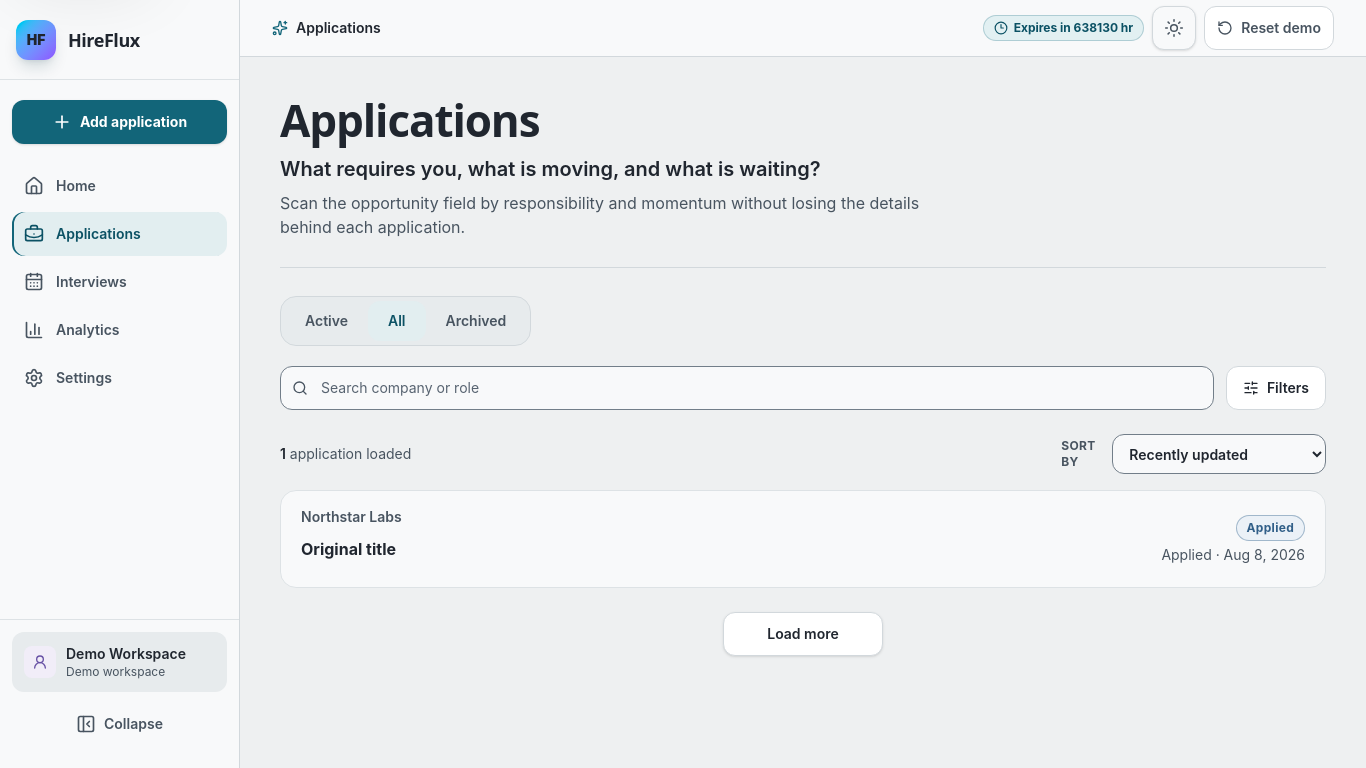
Scenario: ApplicationListPage › deduplicates an application repeated across cursor pages
The image size is (1366, 768).
Expected: the link "Original title" is shown, [301,539,396,559]
Click the button "Load more": (803, 634) [723,612,883,656]
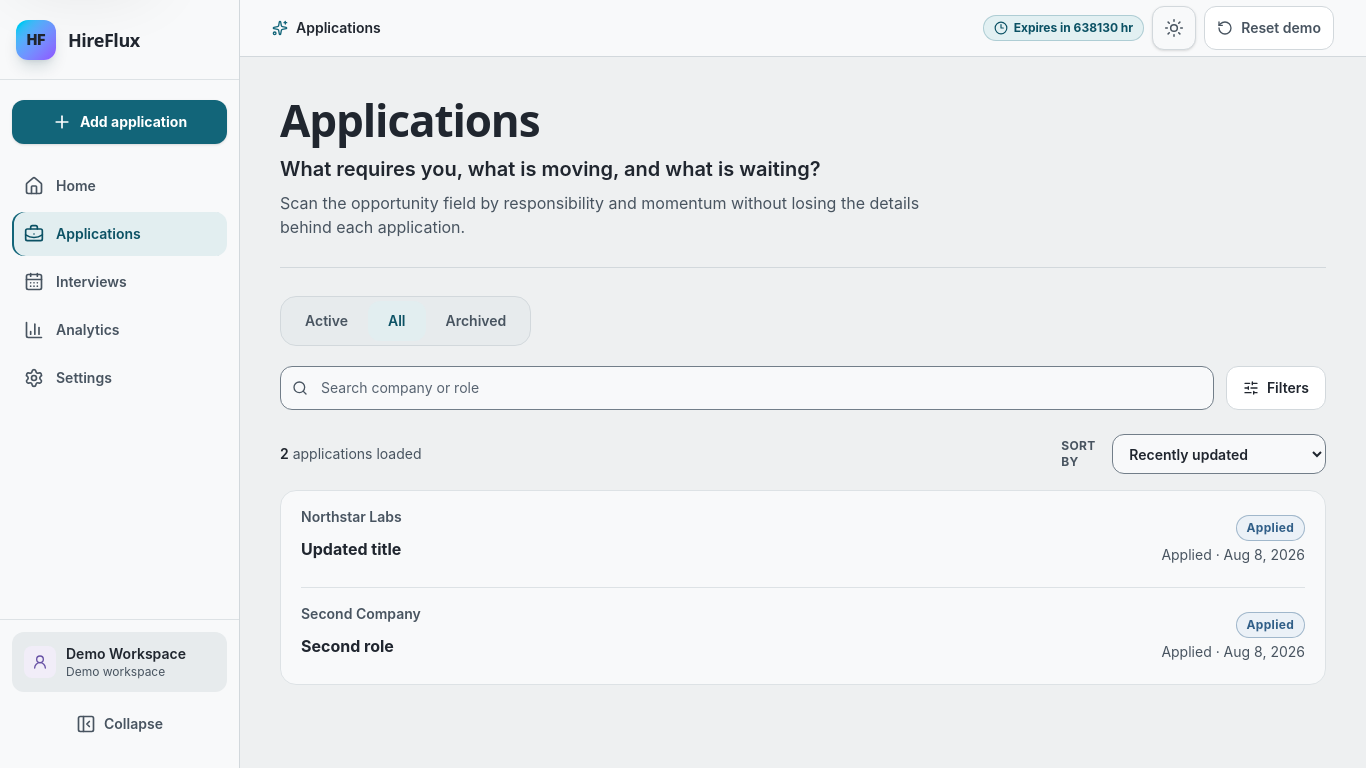
Expected: the link "Updated title" is shown, [301,539,401,559]
Expected: the link "Second role" is shown, [301,636,394,656]
Expected: the link "Original title" is gone
